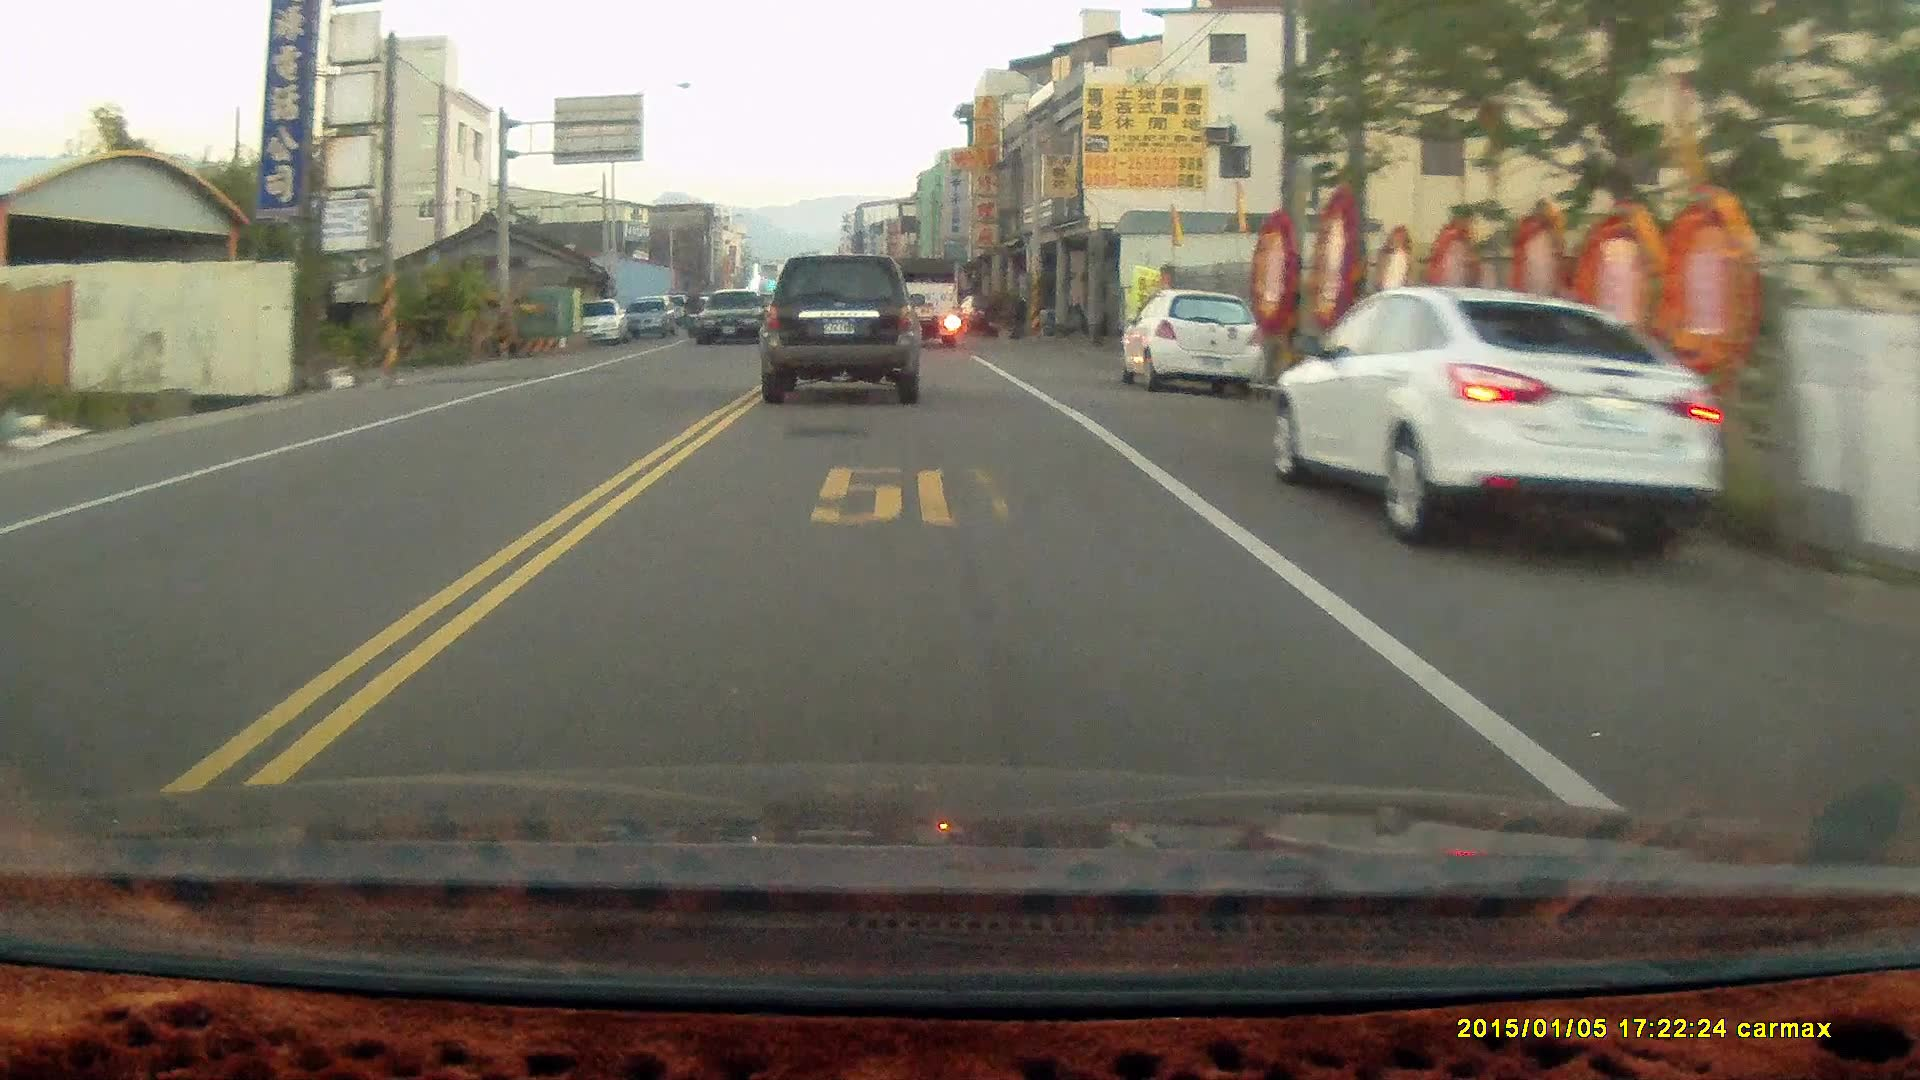vehicle: (1274, 284, 1722, 553), (757, 252, 923, 402), (1118, 289, 1270, 402), (887, 258, 963, 353), (698, 287, 771, 347)
